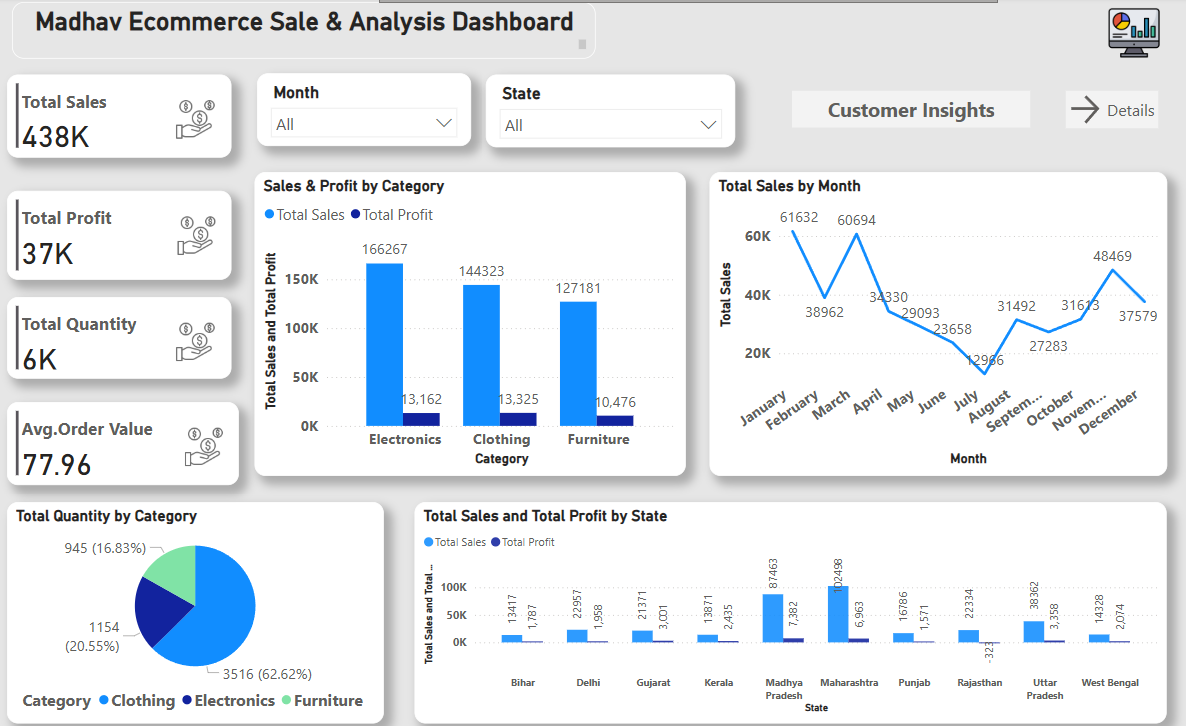

The page's visual inventory and layout, read from the dashboard file:
{"tool":"powerbi","page":{"name":"Overview Dashboard","canvas":[1300,800],"ordinal":0},"visuals":[{"type":"cardVisual","fields":{"Data":["Details.Total Sales"]},"box":[11.1,83.6,243.9,90.6],"z":0},{"type":"cardVisual","fields":{"Data":["Details.Avg.Order Value"]},"box":[11.1,440.4,252.3,90.6],"z":1000},{"type":"cardVisual","fields":{"Data":["Details.Total Profit"]},"box":[11.4,210,244.3,97.1],"z":2000},{"type":"cardVisual","fields":{"Data":["Details.Total Quantity"]},"box":[11.1,326.1,243.9,89.2],"z":3000},{"type":"slicer","fields":{"Values":["Calendar table.Month"]},"box":[282.5,83.1,232.6,78.9],"z":5000},{"type":"pieChart","fields":{"Category":["Details.Category"],"Y":["All Measures.Total Quantity"]},"box":[11.1,548.4,409.9,240.9],"z":6000},{"type":"clusteredColumnChart","fields":{"Category":["Orders.State"],"Y":["All Measures.Total Sales","All Measures.Total Profit"]},"box":[454.2,548.4,846.1,240.9],"z":7000},{"type":"clusteredColumnChart","title":"Sales & Profit by Category","fields":{"Category":["Details.Category"],"Y":["All Measures.Total Sales","All Measures.Total Profit"]},"box":[279.7,189.7,504,331],"z":8000},{"type":"slicer","fields":{"Values":["Orders.State"]},"box":[531.7,84.5,271.4,78.9],"z":9000},{"type":"textbox","title":"Madhav Ecommerce Sale & Analysis Dashboard","box":[15.7,5.7,634.3,61.4],"z":10000},{"type":"image","box":[1184.3,5.7,102.9,67.1],"z":11000},{"type":"actionButton","box":[1186.7,98.3,99.7,40.2],"z":12000},{"type":"lineChart","fields":{"Y":["All Measures.Total Sales"],"Category":["Calendar table.Date.Variation.Date Hierarchy.Month"]},"box":[803.2,189.7,497.1,331],"z":13000},{"type":"actionButton","box":[864.1,102.5,258.9,40.2],"z":14000}]}

Visuals, with their boxes in screenshot pixels (x1, y1, x2, y2), scaled from the page's 1300x800 canvas onto the 1186x726 screenshot:
cardVisual - Details.Total Sales: l=10, t=76, r=233, b=158
cardVisual - Details.Avg.Order Value: l=10, t=400, r=240, b=482
cardVisual - Details.Total Profit: l=10, t=191, r=233, b=279
cardVisual - Details.Total Quantity: l=10, t=296, r=233, b=377
slicer - Calendar table.Month: l=258, t=75, r=470, b=147
pieChart - Details.Category x All Measures.Total Quantity: l=10, t=498, r=384, b=716
clusteredColumnChart - Orders.State x All Measures.Total Sales: l=414, t=498, r=1185, b=716
"Sales & Profit by Category" clusteredColumnChart: l=255, t=172, r=715, b=473
slicer - Orders.State: l=485, t=77, r=733, b=148
"Madhav Ecommerce Sale & Analysis Dashboard" textbox: l=14, t=5, r=593, b=61
image: l=1080, t=5, r=1174, b=66
actionButton: l=1083, t=89, r=1174, b=126
lineChart - All Measures.Total Sales x Calendar table.Date.Variation.Date Hierarchy.Month: l=733, t=172, r=1185, b=473
actionButton: l=788, t=93, r=1025, b=130
